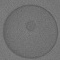small: (25, 20, 36, 31)
